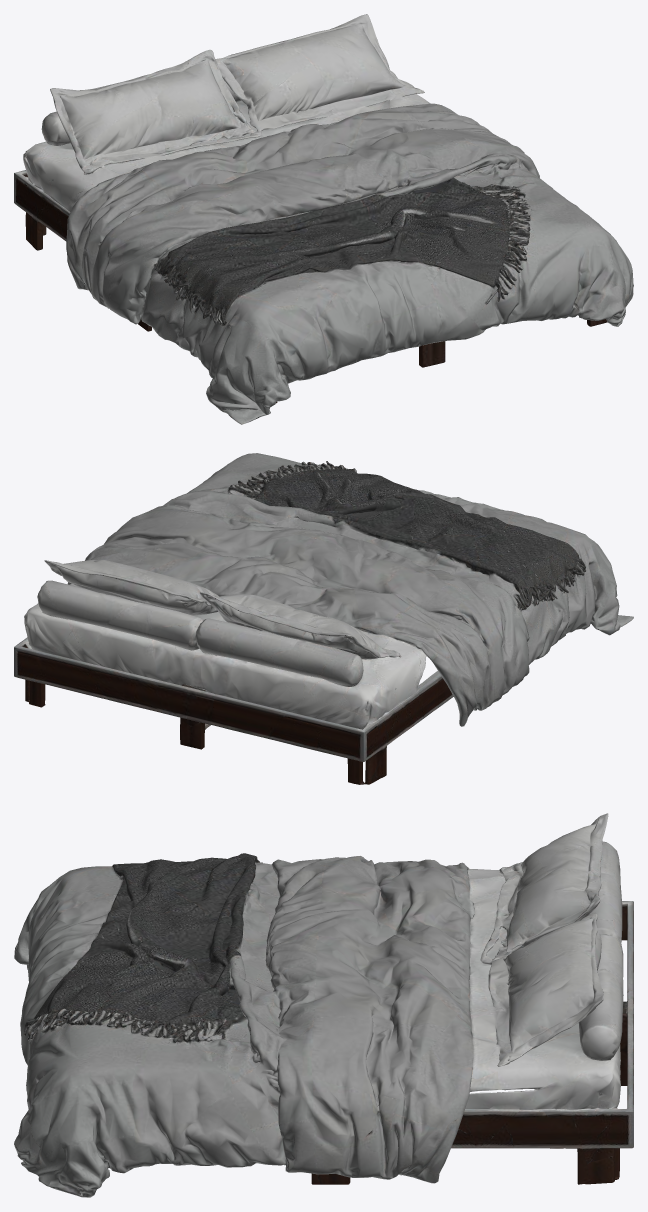
File: cama.glb
The picture shows the model from 3 angles, top to bottom: view 1: azimuth 30°, elevation 25°; view 2: azimuth 150°, elevation 25°; view 3: azimuth 270°, elevation 25°; orthographic projection. The views are drawn at different scales.
Size of the model in its own units: 1.8 by 0.613 by 1.9.
1 material, 1 textured.
